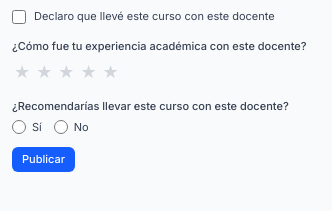
Test: ReviewForm — rechazo del servidor › conserva lo elegido después de un rechazo
Click the checkbox labelled "Declaro que llevé este curso con este docente".
click(19, 17)  # box [12,10,26,24]
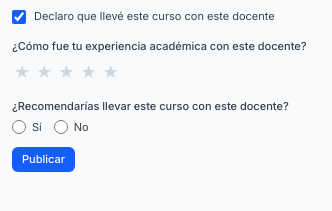
Click the radio button named "4 estrellas".
click(88, 72)  # box [78,58,98,86]
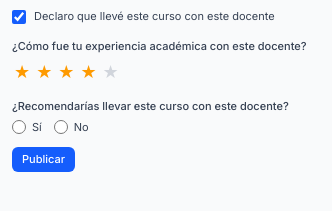
Click the radio button labelled "Sí".
click(19, 127)  # box [12,120,26,134]
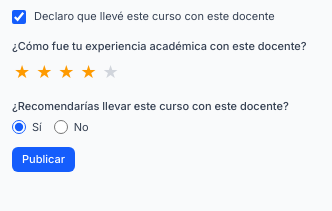
Click the button "Publicar".
click(44, 160)  # box [12,147,75,172]
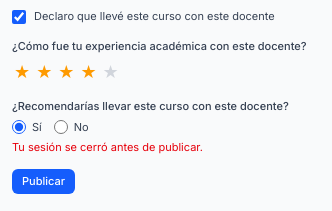
Check: the checkbox labelled "Declaro que llevé este curso con este docente" is checked, box [12,10,26,24]
Check: the radio button named "4 estrellas" is checked, box [78,58,98,86]
Check: the text "Tu sesión se cerró antes de publicar." is shown, box [12,140,203,154]
